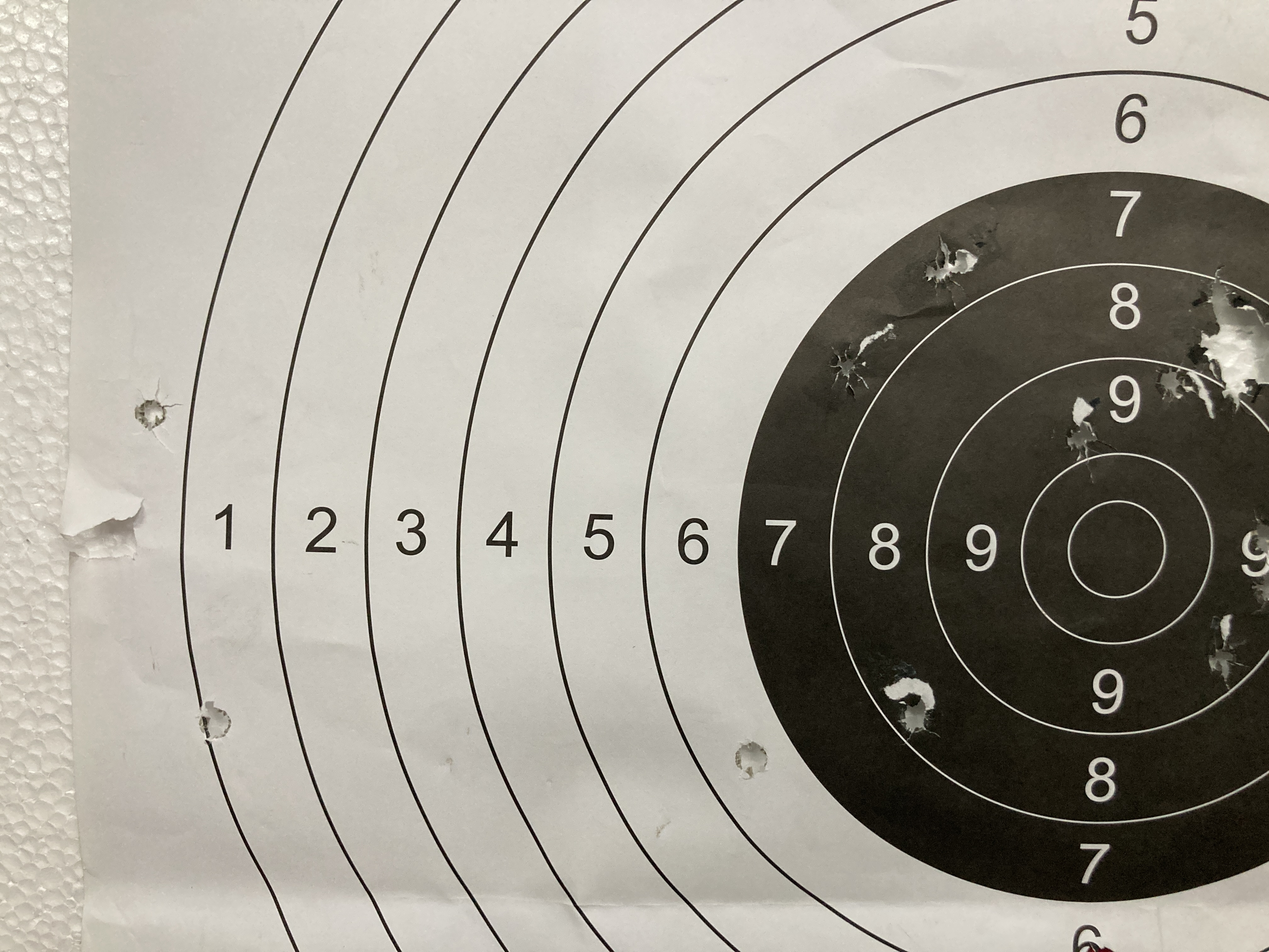hole: (1174, 249, 1269, 410), (906, 230, 980, 304), (877, 673, 953, 745), (1047, 400, 1119, 474), (814, 331, 879, 405), (1200, 623, 1260, 692), (719, 731, 788, 788), (1140, 345, 1193, 415), (189, 690, 242, 750), (125, 386, 177, 441), (1243, 506, 1269, 558)
